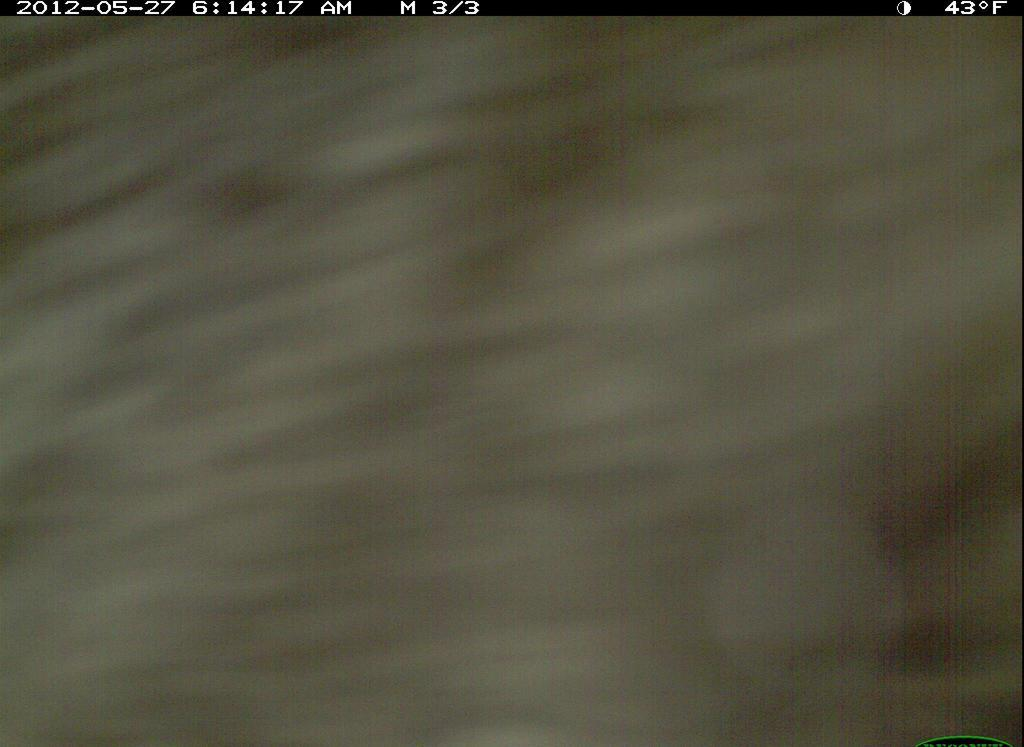coyote: (2, 18, 1023, 747)
